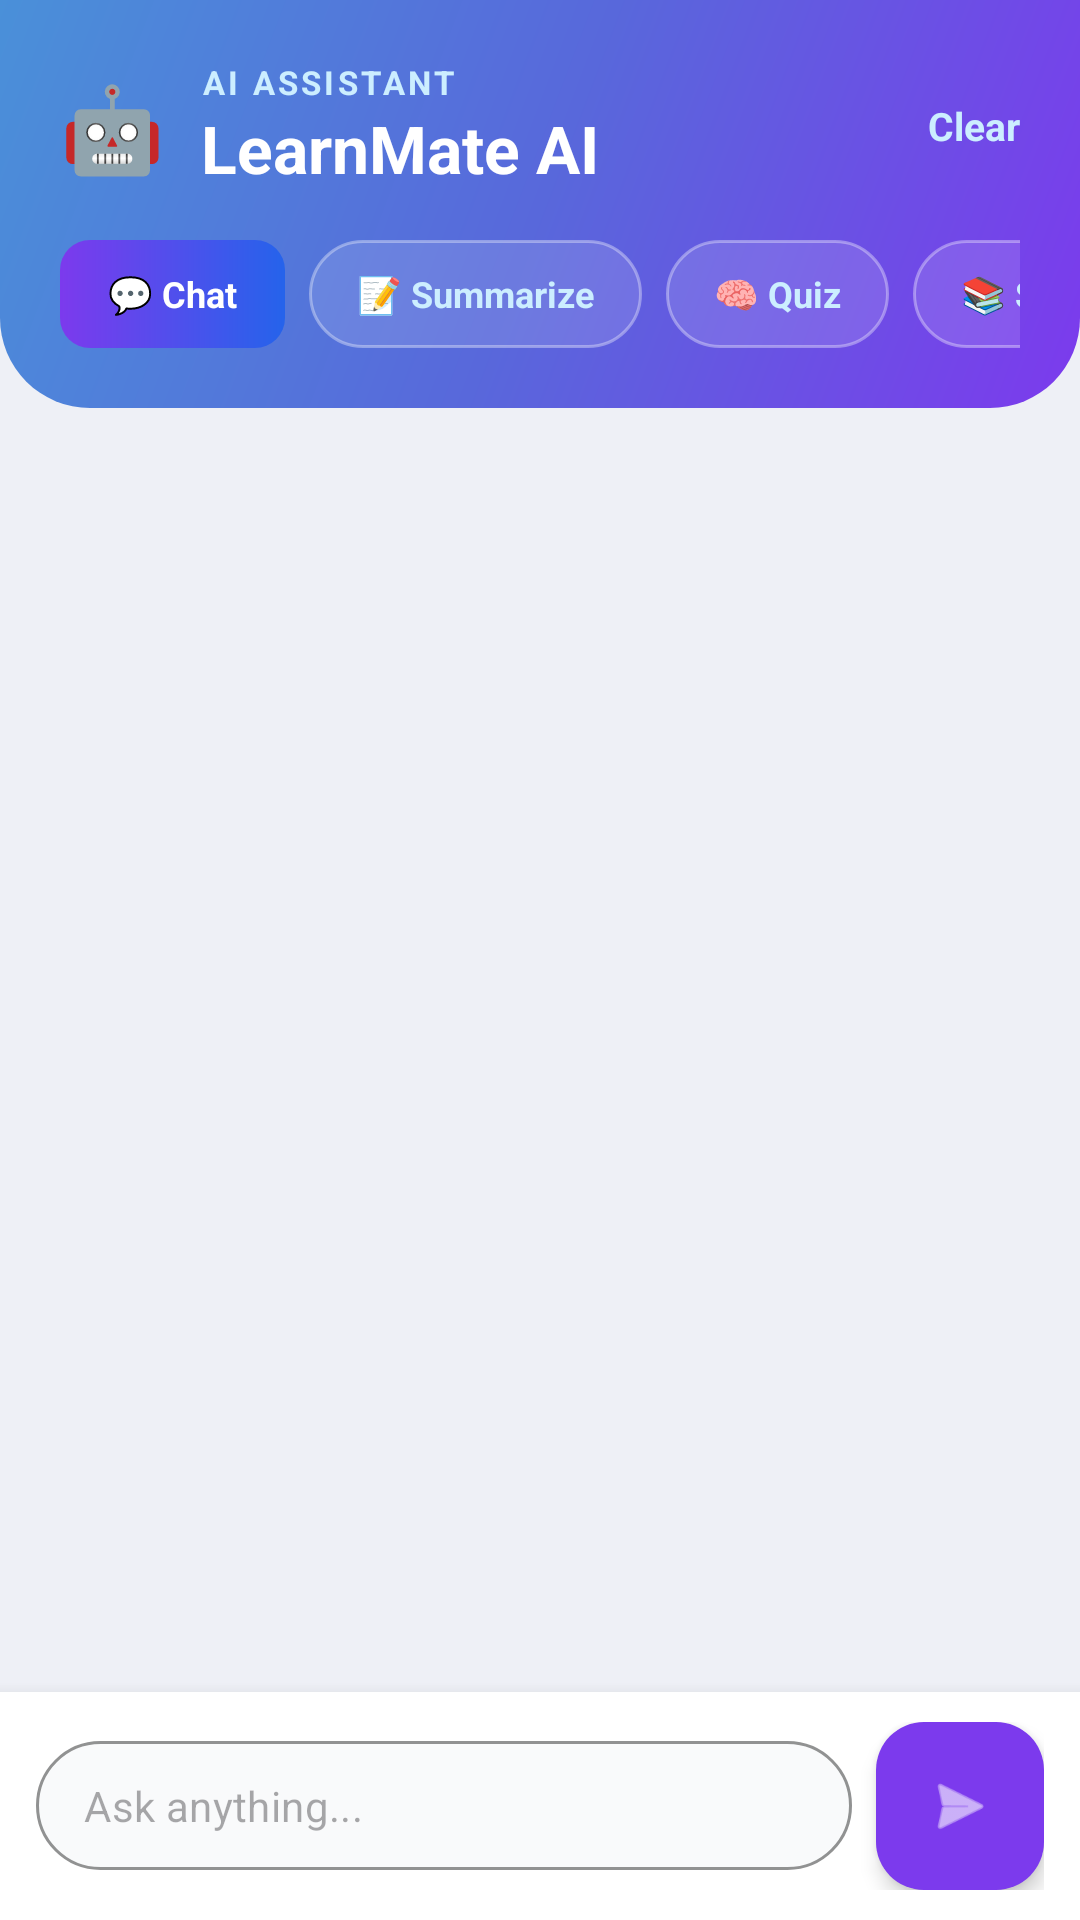

Icons on this 1080 × 1920 Android screen, each with its box as (x1, y1, x2, y2):
send: (876, 1722, 1044, 1890)
